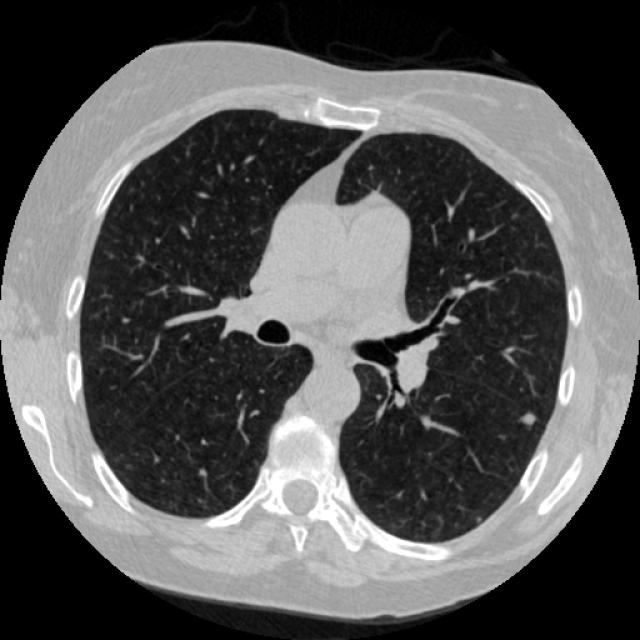nodule: (514, 404, 541, 431)
